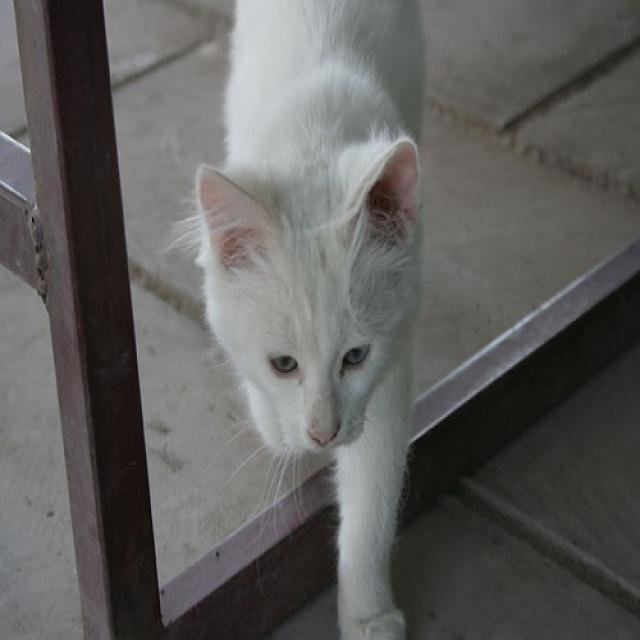left eye: (339, 338, 371, 373)
